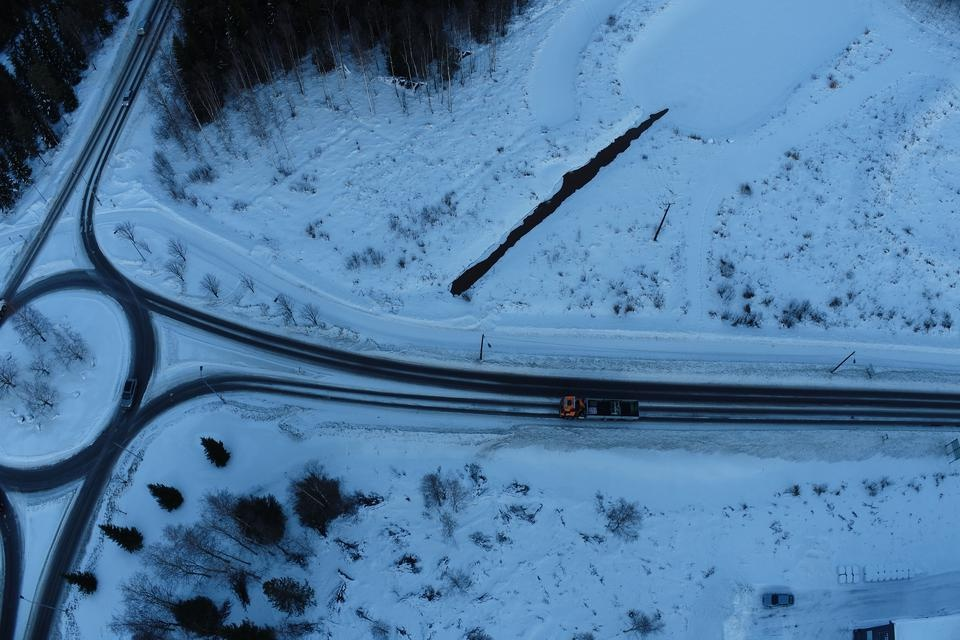roundabout: (0, 229, 182, 508)
